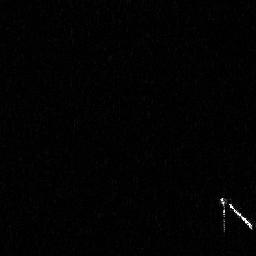ship: (218, 193, 256, 236)
